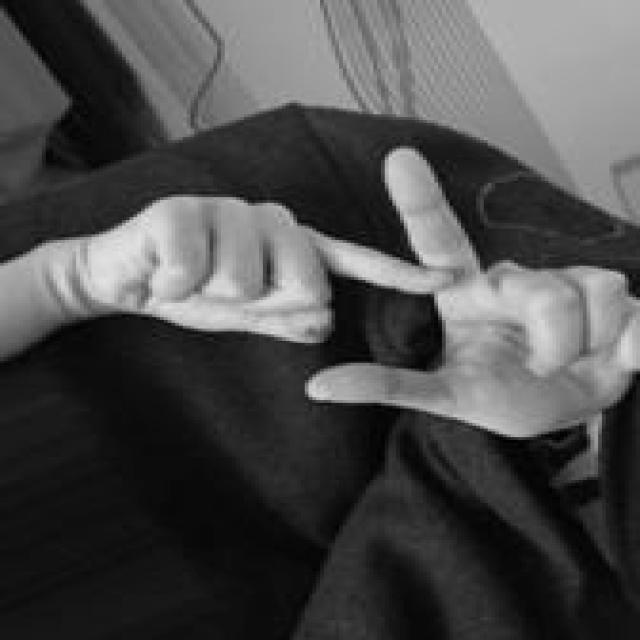J: (103, 142, 640, 444)
